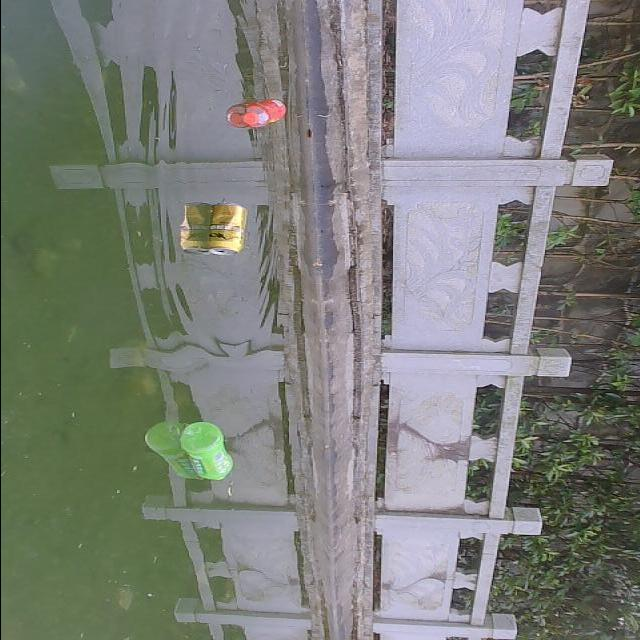Bottle: (182, 419, 234, 483), (238, 95, 287, 130)
Can: (202, 201, 248, 258)
